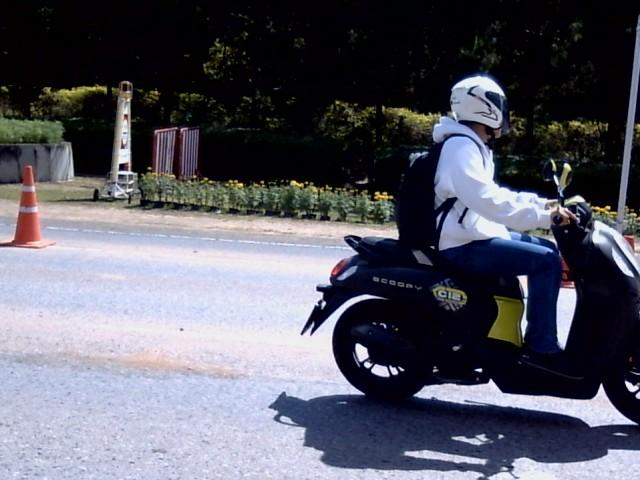helmet: (450, 73, 510, 141)
motor: (301, 161, 639, 423)
person: (424, 75, 578, 375)
